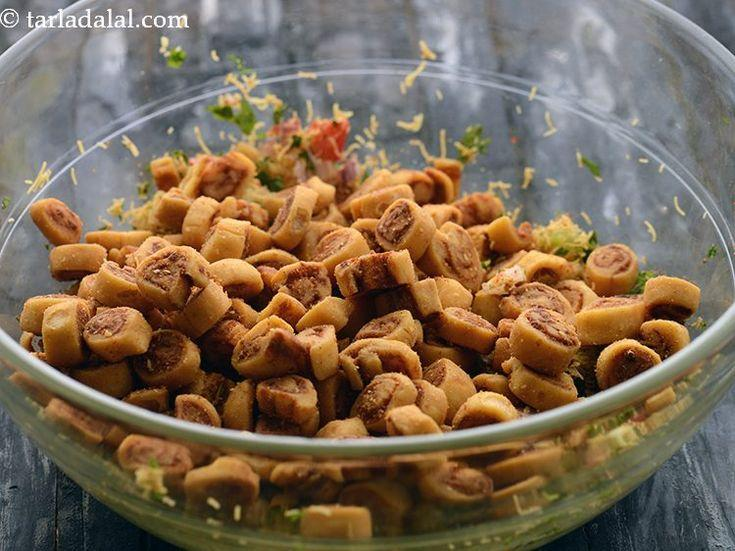bhakarwadi: (24, 137, 690, 437)
